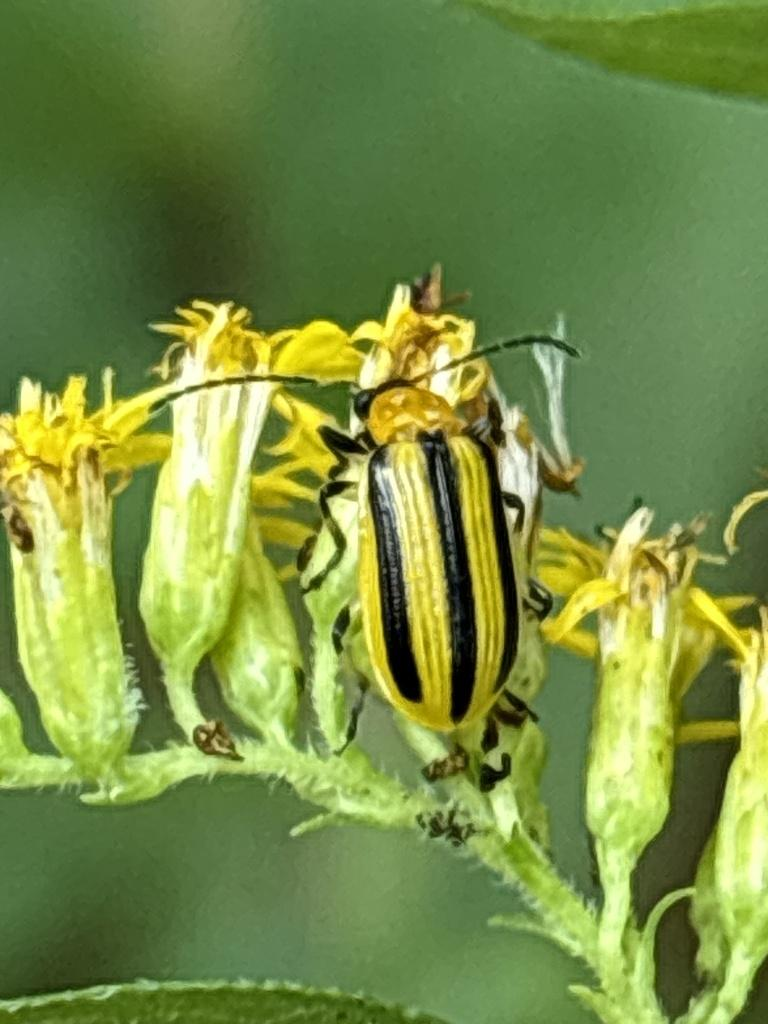potato_beetle: (114, 234, 724, 830)
